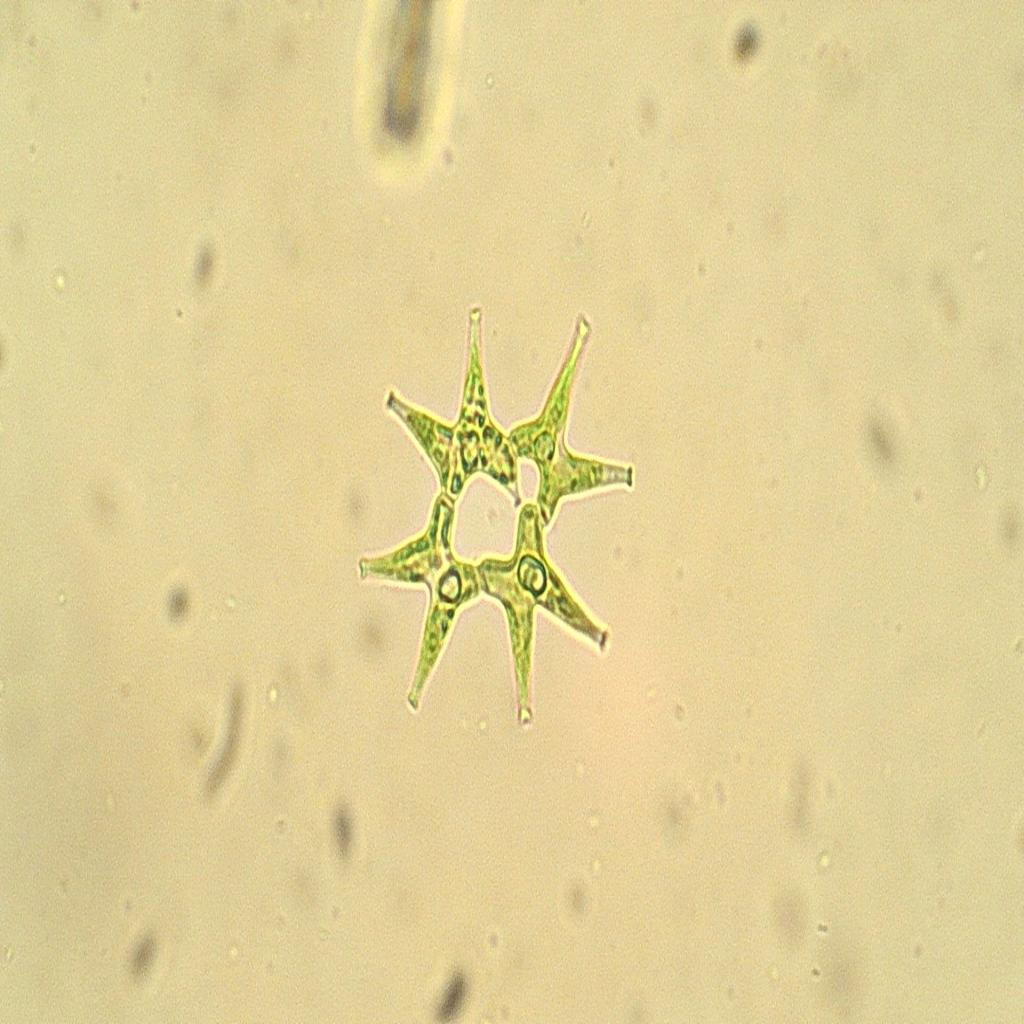Pediastrum_75FO: (345, 279, 645, 752)
